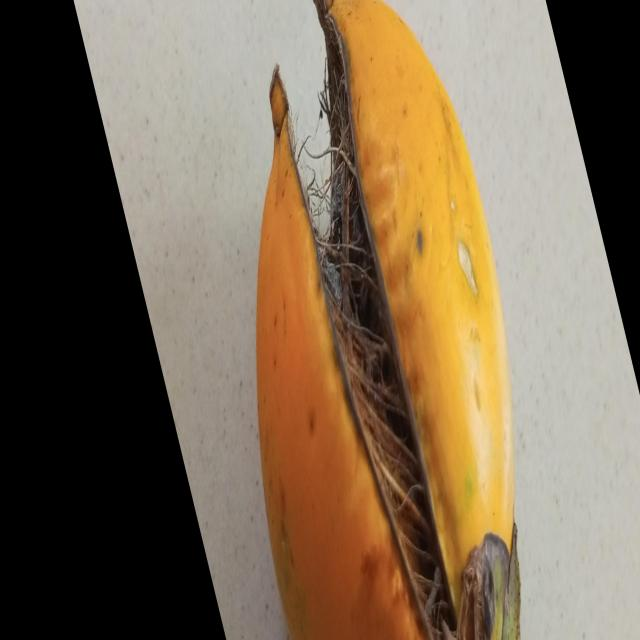damaged: (259, 0, 520, 640)
